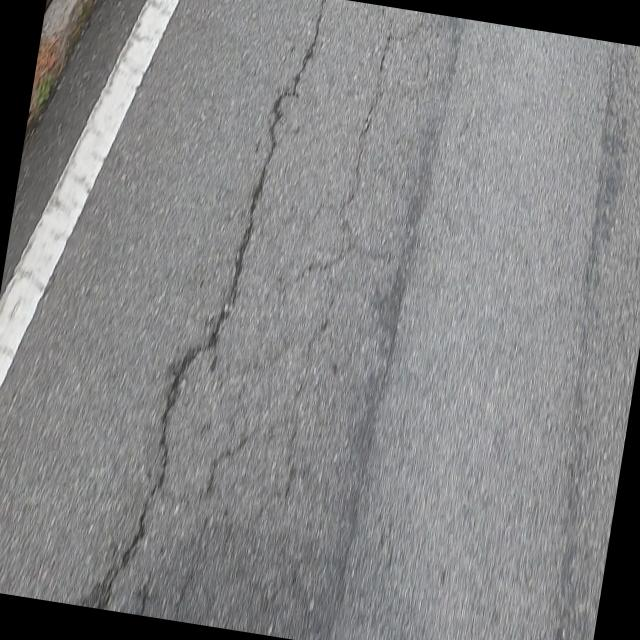Retak-Memanjang: (94, 0, 328, 609)
